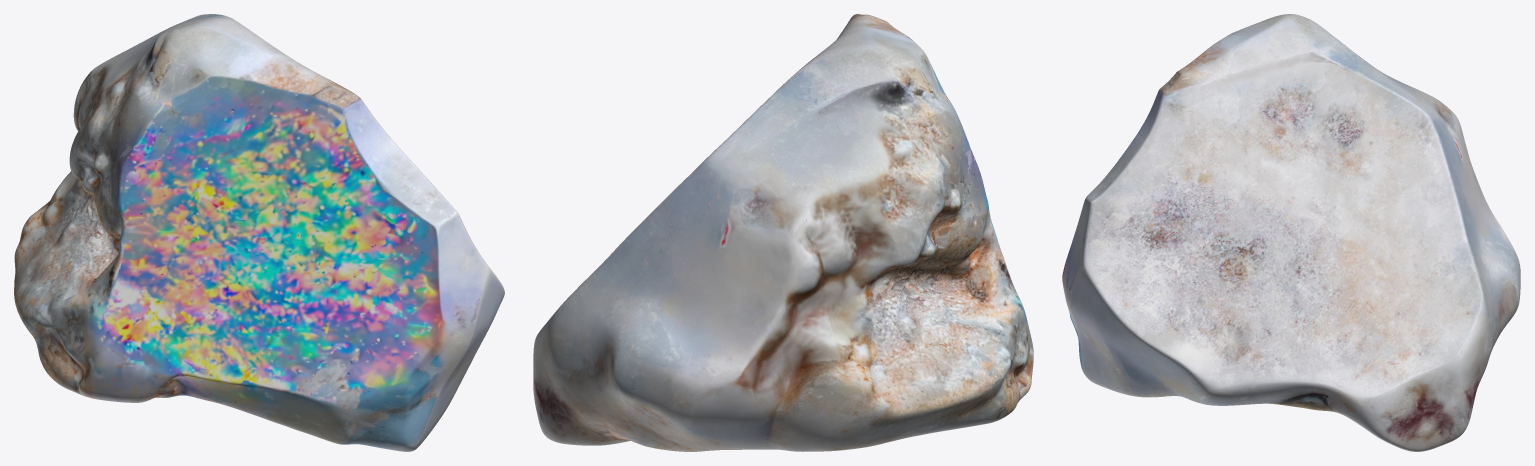
File: opal.glb
3 views of the same model, side by side, from view 1: azimuth 30°, elevation 25°; view 2: azimuth 150°, elevation 25°; view 3: azimuth 270°, elevation 25° (orthographic). The views are drawn at different scales.
Parts seen in each view (by area): view 1: opal; view 2: opal; view 3: opal.
Boxes of the visible parts, bbox=[...] form: opal: bbox=[14, 14, 504, 451]; opal: bbox=[533, 14, 1033, 451]; opal: bbox=[1062, 14, 1520, 451].
Size of the model in its own units: 0.9084 by 0.7926 by 1.
1 material, 1 textured.
